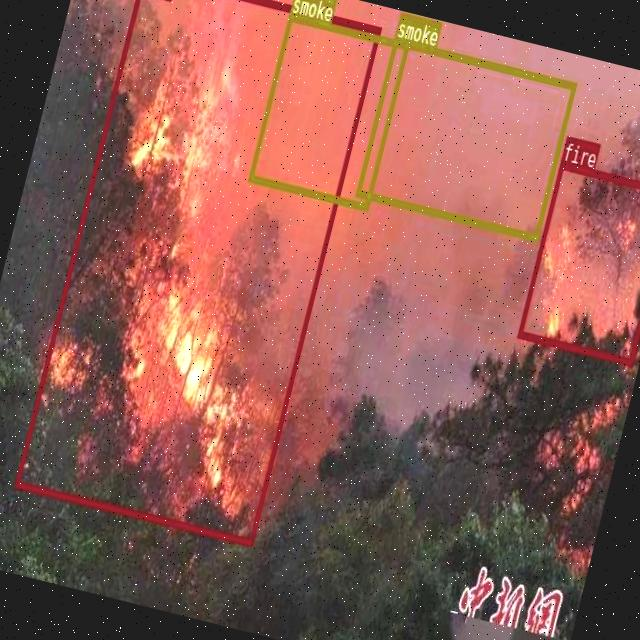fire: (13, 0, 381, 545), (515, 159, 640, 364)
smoke: (355, 36, 576, 240), (247, 12, 408, 208)
